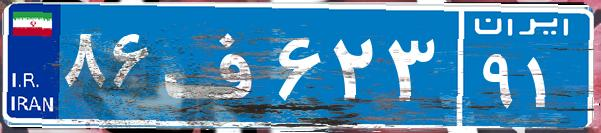1: (525, 38, 570, 115)
2: (330, 28, 385, 110)
3: (385, 28, 445, 110)
6: (273, 28, 330, 110), (110, 28, 158, 105)
8: (57, 26, 110, 107)
9: (475, 38, 525, 113)
ف: (158, 15, 273, 115)
